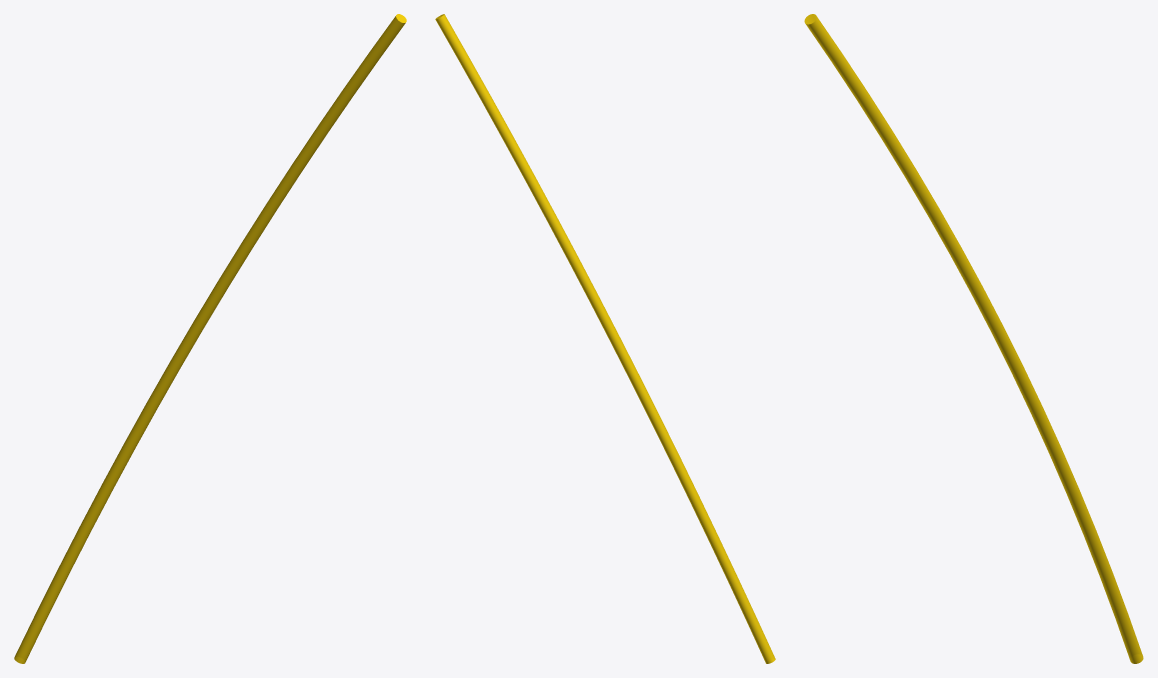
File: Event_421127236_track_1.fbx
The picture shows the model from 3 angles, left to right: view 1: azimuth 30°, elevation 25°; view 2: azimuth 210°, elevation 25°; view 3: azimuth 270°, elevation 25°; orthographic projection. The views are drawn at different scales.
Parts seen in each view (by area): view 1: Model; view 2: Model; view 3: Model.
Boxes of the visible parts, x1,y1,x2,y2 form: Model: (14,14,406,663); Model: (435,14,775,663); Model: (804,14,1143,663).
Size of the model in its own units: 0.9146 by 2.5 by 0.9936.
